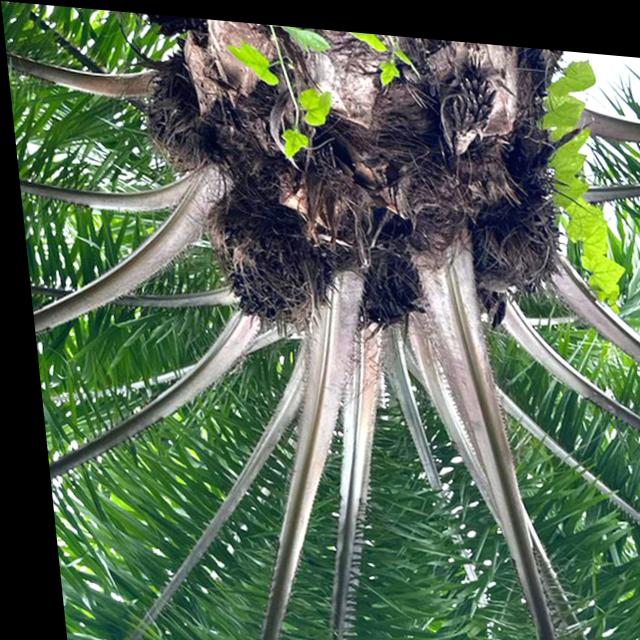unripe: (201, 197, 344, 343), (127, 59, 251, 181)
